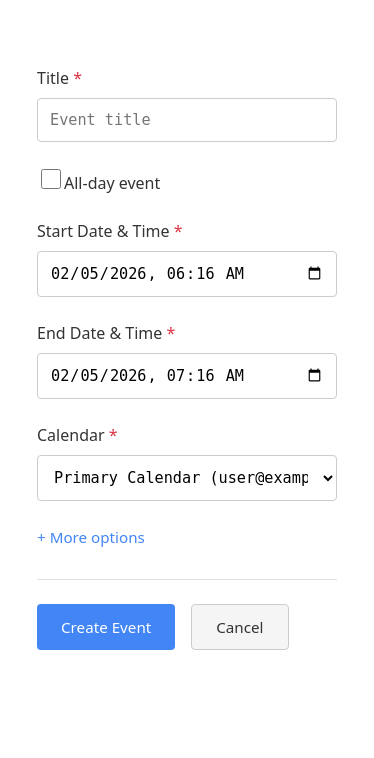
Scenario: EventForm Component › Advanced Fields › should toggle advanced fields when more options is clicked
The width and height of the screenshot is (374, 758).
Expected: the field labelled "description" is not shown
# Click more options
Click the button "+ More options".
click(91, 537)  # box 37,527 -> 145,547
(page scrolled)
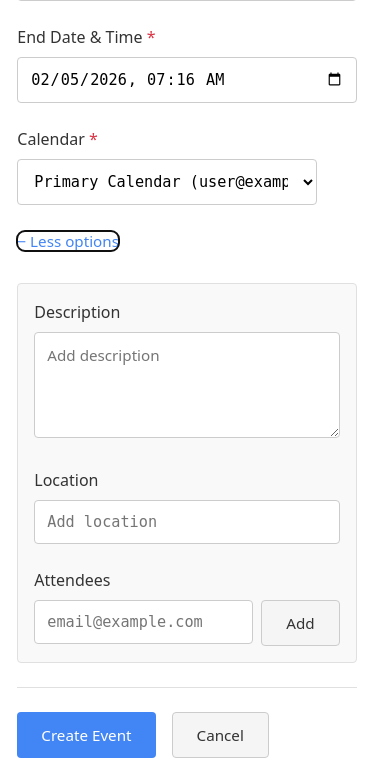
Expected: the text box labelled "Description" is shown, 34,332 -> 340,438
Expected: the field labelled "Location" is shown, 34,500 -> 340,544
Expected: the field labelled "Attendees" is shown, 34,600 -> 253,644
